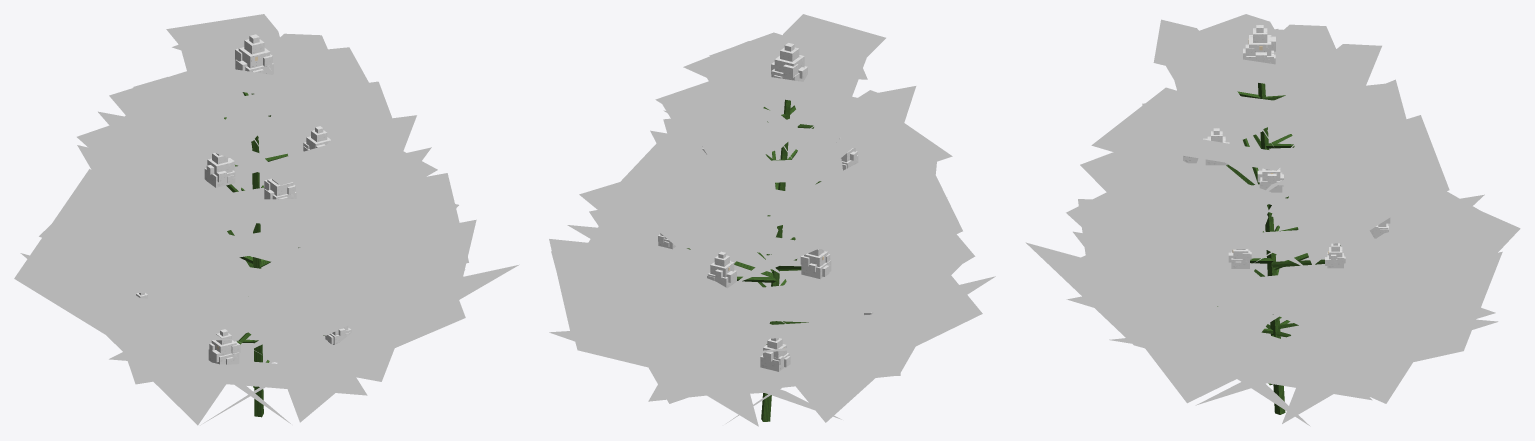
Rendered from plant_2_2_2.obj.
3 renders of one model, left to right at view 1: azimuth 30°, elevation 25°; view 2: azimuth 150°, elevation 25°; view 3: azimuth 270°, elevation 25°, orthographic. The views are drawn at different scales.
Parts seen in each view (by area): view 1: model; view 2: model; view 3: model.
Boxes of the visible parts, box(x1,y1,x2,y2) form: model: box(14, 14, 519, 425); model: box(549, 14, 995, 426); model: box(1025, 14, 1520, 426).
Size of the model in its own units: 0.9048 by 0.7859 by 0.9298.
